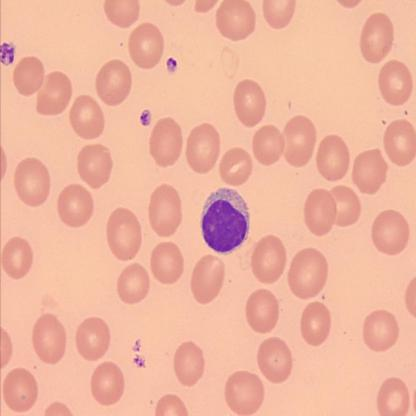Lymphocyte: (201, 186, 251, 256)
